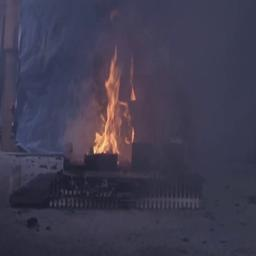fire: (92, 46, 143, 158)
